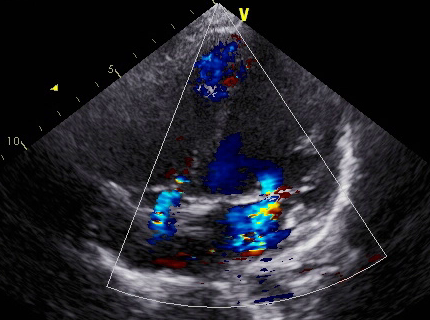MR: (215, 170, 316, 231)
